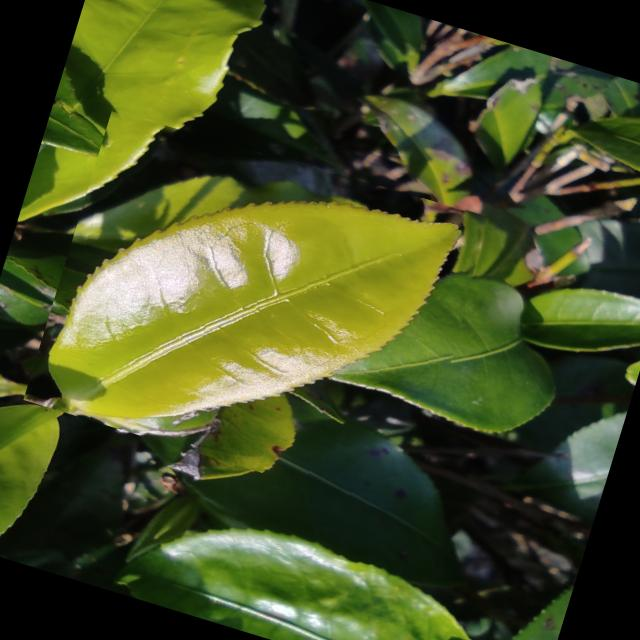Category B(2-4 days): (22, 101, 503, 518)
